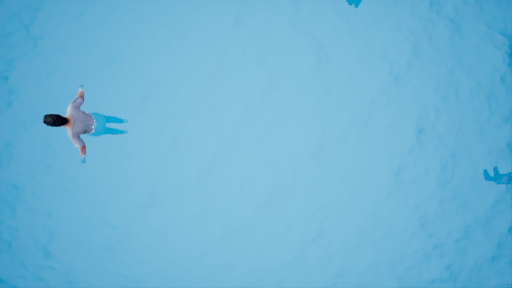person: (41, 91, 130, 166)
